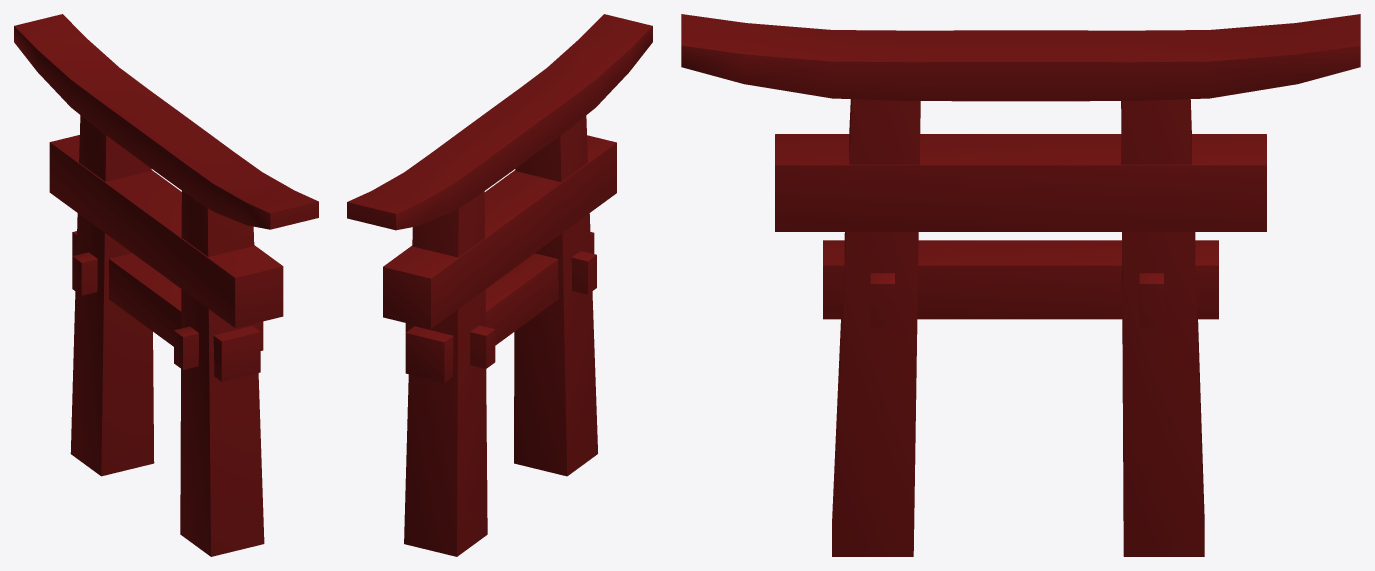
The model's file is Torrii.fbx.
3 renders of one model, left to right at view 1: azimuth 30°, elevation 25°; view 2: azimuth 150°, elevation 25°; view 3: azimuth 270°, elevation 25°, orthographic. The views are drawn at different scales.
Parts seen in each view (by area): view 1: Torrii; view 2: Torrii; view 3: Torrii.
Part boxes in pixels (x1,y1,x2,y2): Torrii: [14, 14, 318, 556]; Torrii: [347, 14, 652, 556]; Torrii: [681, 14, 1360, 556].
Bounding box in the file's own units: 16.16 × 73.96 × 89.28.
